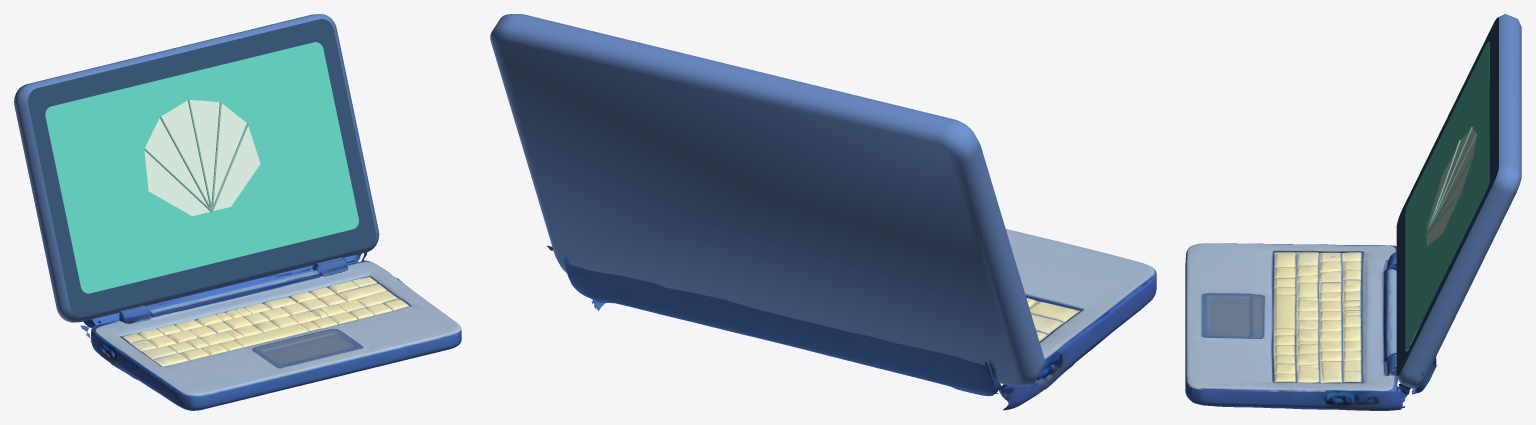
The model's file is laptop.glb.
The picture shows the model from 3 angles, left to right: view 1: azimuth 30°, elevation 25°; view 2: azimuth 150°, elevation 25°; view 3: azimuth 270°, elevation 25°; orthographic projection. The views are drawn at different scales.
Parts seen in each view (by area): view 1: clean display, textured, continuous screen bezel, shell on display, retopologized rounded screen case; view 2: retopologized rounded screen case, textured; view 3: textured, clean display, retopologized rounded screen case, continuous screen bezel, shell on display.
Part boxes in pixels (<box>): clean display: <box>45,42,358,293</box>; textured: <box>80,252,461,410</box>; continuous screen bezel: <box>27,19,376,316</box>; shell on display: <box>144,100,260,216</box>; retopologized rounded screen case: <box>14,14,379,322</box>; retopologized rounded screen case: <box>490,14,1045,386</box>; textured: <box>547,229,1156,410</box>; textured: <box>1185,243,1436,410</box>; clean display: <box>1405,41,1488,351</box>; retopologized rounded screen case: <box>1397,14,1521,388</box>; continuous screen bezel: <box>1396,17,1498,375</box>; shell on display: <box>1427,128,1476,245</box>.
Bounding box in the file's own units: 0.75 × 0.5159 × 0.6352.
6 materials, 1 textured.
